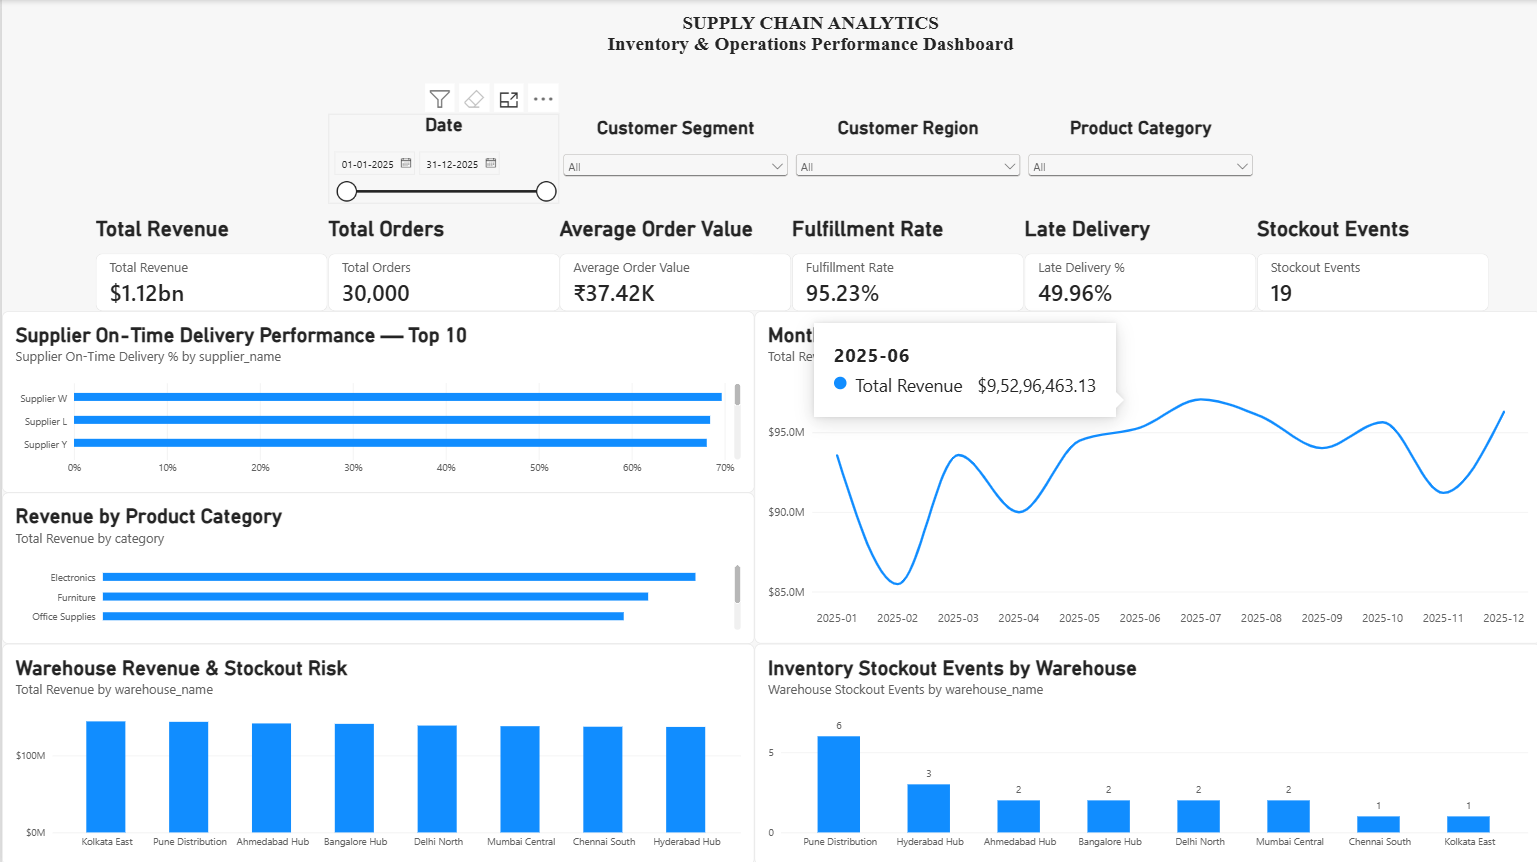

Layout of this report page (visuals, bound fields, positions):
{"tool":"powerbi","page":{"name":"Executive Dashboard","canvas":[1920,1080],"ordinal":0},"visuals":[{"type":"cardVisual","title":"Total Revenue","fields":{"Data":["DateTable.Total Revenue"]},"box":[116.9,269.7,289.5,118.6],"z":0},{"type":"cardVisual","title":"Total Orders","fields":{"Data":["DateTable.Total Orders"]},"box":[406.9,269.7,289.5,118.6],"z":1000},{"type":"cardVisual","title":"Average Order Value","fields":{"Data":["DateTable.Average Order Value"]},"box":[695.3,269.7,289.5,118.6],"z":2000},{"type":"cardVisual","title":"Fulfillment Rate","fields":{"Data":["DateTable.Fulfillment Rate"]},"box":[985.2,269.7,289.5,118.6],"z":3000},{"type":"cardVisual","title":"Late Delivery","fields":{"Data":["DateTable.Late Delivery %"]},"box":[1275.2,269.7,289.5,118.6],"z":4000},{"type":"cardVisual","title":"Stockout Events","fields":{"Data":["DateTable.Stockout Events"]},"box":[1565.1,269.7,289.5,118.6],"z":5000},{"type":"lineChart","title":"Monthly Revenue Trend","fields":{"Category":["DateTable.Year Month"],"Y":["DateTable.Total Revenue"]},"box":[938.5,388.2,982.1,414.7],"z":6000},{"type":"clusteredBarChart","title":"Revenue by Product Category","fields":{"Category":["public products.category"],"Y":["DateTable.Total Revenue"]},"box":[0,614.2,938.5,188.6],"z":7000},{"type":"clusteredBarChart","title":"Supplier On-Time Delivery Performance — Top 10","fields":{"Category":["public suppliers.supplier_name"],"Y":["DateTable.Supplier On-Time Delivery %"]},"box":[0,388.2,938.5,226],"z":8000},{"type":"clusteredColumnChart","title":"Warehouse Revenue & Stockout Risk","fields":{"Category":["public warehouses.warehouse_name"],"Y":["DateTable.Total Revenue"]},"box":[0,802.8,938.5,277.5],"z":8001},{"type":"clusteredColumnChart","title":"Inventory Stockout Events by Warehouse","fields":{"Category":["public warehouses.warehouse_name"],"Y":["DateTable.Warehouse Stockout Events"]},"box":[938.5,802.8,982.1,277.5],"z":8002},{"type":"slicer","title":"Customer Region","fields":{"Values":["public customers.region"]},"box":[985.2,145,290,112.2],"z":8003},{"type":"slicer","title":"Customer Segment","fields":{"Values":["public customers.customer_segment"]},"box":[695.3,145,290,112.2],"z":8004},{"type":"slicer","title":"Product Category","fields":{"Values":["public products.category"]},"box":[1275.2,145,290,109.1],"z":8005},{"type":"slicer","title":"Date","fields":{"Values":["DateTable.Date"]},"box":[406.9,141.9,288.4,112.2],"z":8006},{"type":"textbox","box":[484.8,14,1047.6,63.9],"z":8007}]}

Visuals, with their boxes in screenshot pixels (x1, y1, x2, y2), scaled from the page's 1920x1080 canvas onto the 1537x862 screenshot:
"Total Revenue" cardVisual: select_region(94, 215, 325, 310)
"Total Orders" cardVisual: select_region(326, 215, 557, 310)
"Average Order Value" cardVisual: select_region(557, 215, 788, 310)
"Fulfillment Rate" cardVisual: select_region(789, 215, 1020, 310)
"Late Delivery" cardVisual: select_region(1021, 215, 1253, 310)
"Stockout Events" cardVisual: select_region(1253, 215, 1485, 310)
"Monthly Revenue Trend" lineChart: select_region(751, 310, 1536, 641)
"Revenue by Product Category" clusteredBarChart: select_region(0, 490, 751, 641)
"Supplier On-Time Delivery Performance — Top 10" clusteredBarChart: select_region(0, 310, 751, 490)
"Warehouse Revenue & Stockout Risk" clusteredColumnChart: select_region(0, 641, 751, 861)
"Inventory Stockout Events by Warehouse" clusteredColumnChart: select_region(751, 641, 1536, 861)
"Customer Region" slicer: select_region(789, 116, 1021, 205)
"Customer Segment" slicer: select_region(557, 116, 789, 205)
"Product Category" slicer: select_region(1021, 116, 1253, 203)
"Date" slicer: select_region(326, 113, 557, 203)
textbox: select_region(388, 11, 1227, 62)
